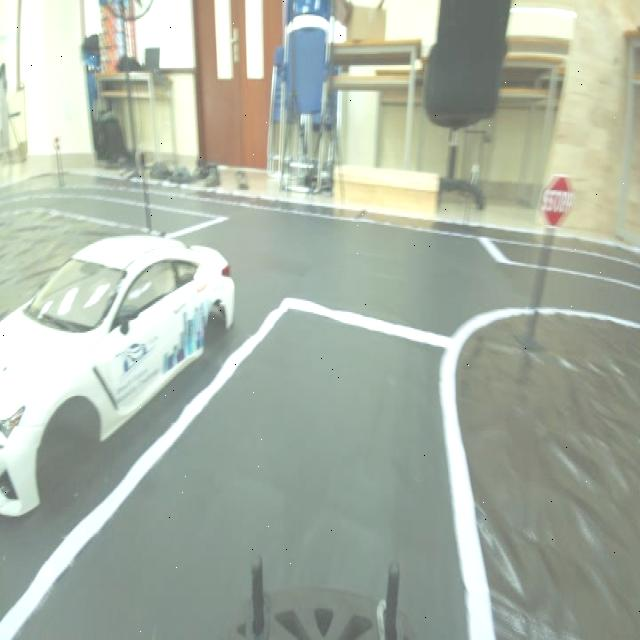car: (0, 243, 227, 535)
stop: (542, 175, 574, 231)
